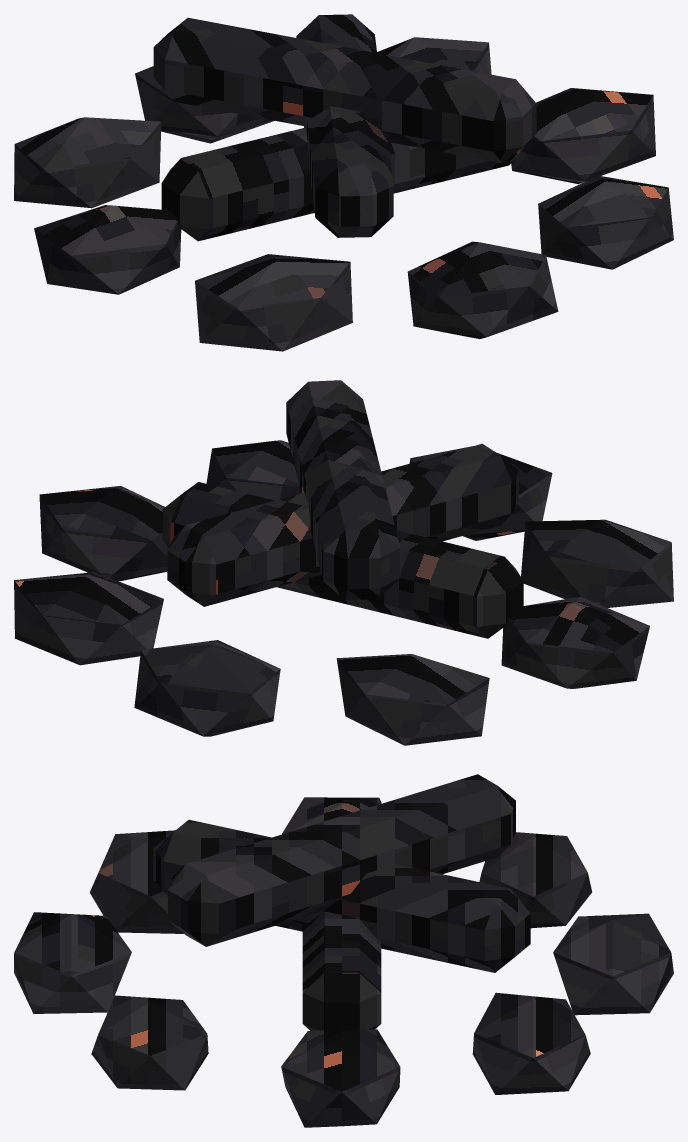
The model's file is enfeite_fogueira.fbx.
The picture shows the model from 3 angles, top to bottom: view 1: azimuth 30°, elevation 25°; view 2: azimuth 150°, elevation 25°; view 3: azimuth 270°, elevation 25°; orthographic projection. The views are drawn at different scales.
Parts seen in each view (by area): view 1: vulcao_enfeite_fogueira; view 2: vulcao_enfeite_fogueira; view 3: vulcao_enfeite_fogueira.
Boxes of the visible parts, x1,y1,x2,y2 form: vulcao_enfeite_fogueira: (14, 14, 673, 351); vulcao_enfeite_fogueira: (14, 380, 673, 745); vulcao_enfeite_fogueira: (14, 774, 673, 1127).
Size of the model in its own units: 62.4 by 18.41 by 58.53.
Materials: 2 (2 with a texture image).
